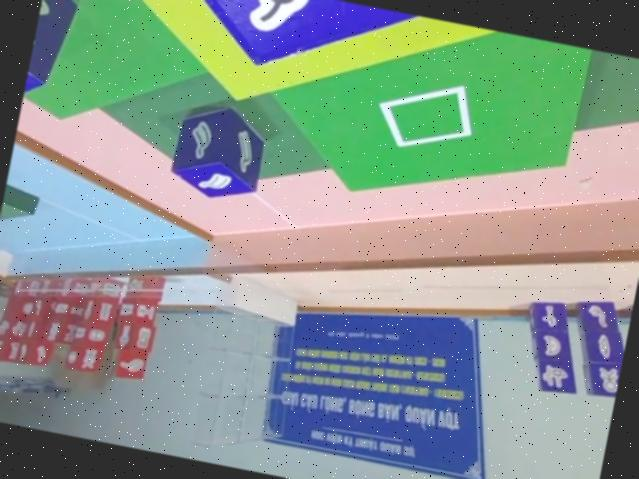R2 Real Blue: (120, 0, 422, 96), (166, 96, 273, 206), (19, 0, 85, 116)
